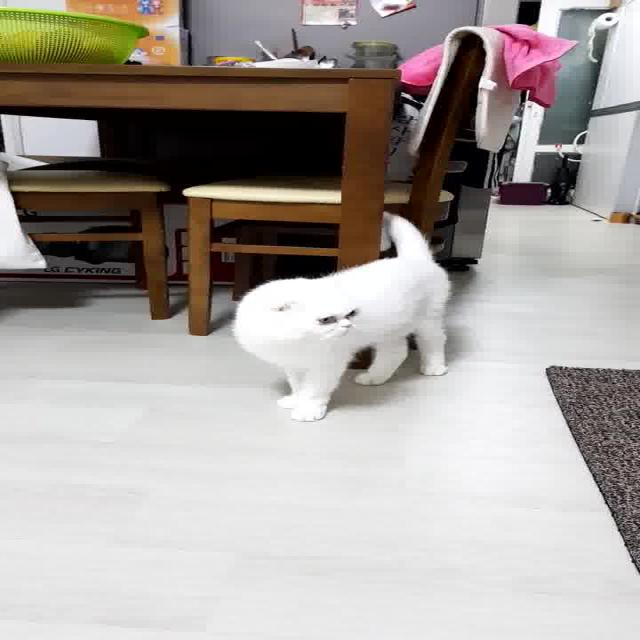cat: (225, 208, 479, 424)
